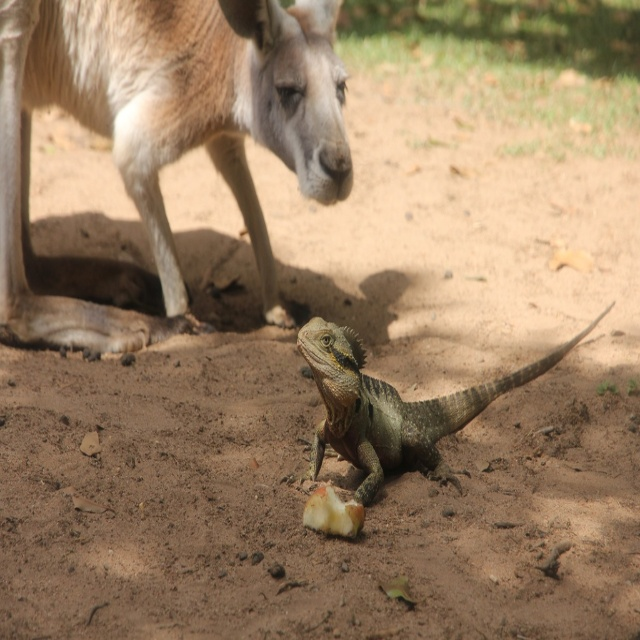Lizard: (297, 303, 612, 504)
